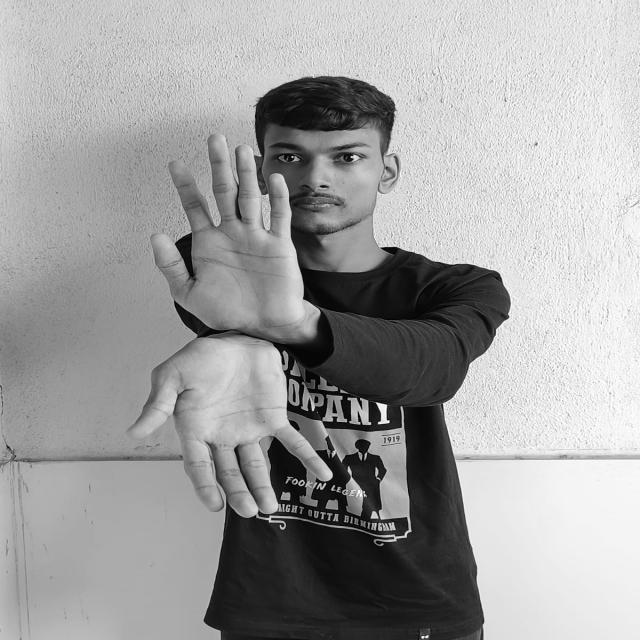Morning: (126, 132, 338, 518)
